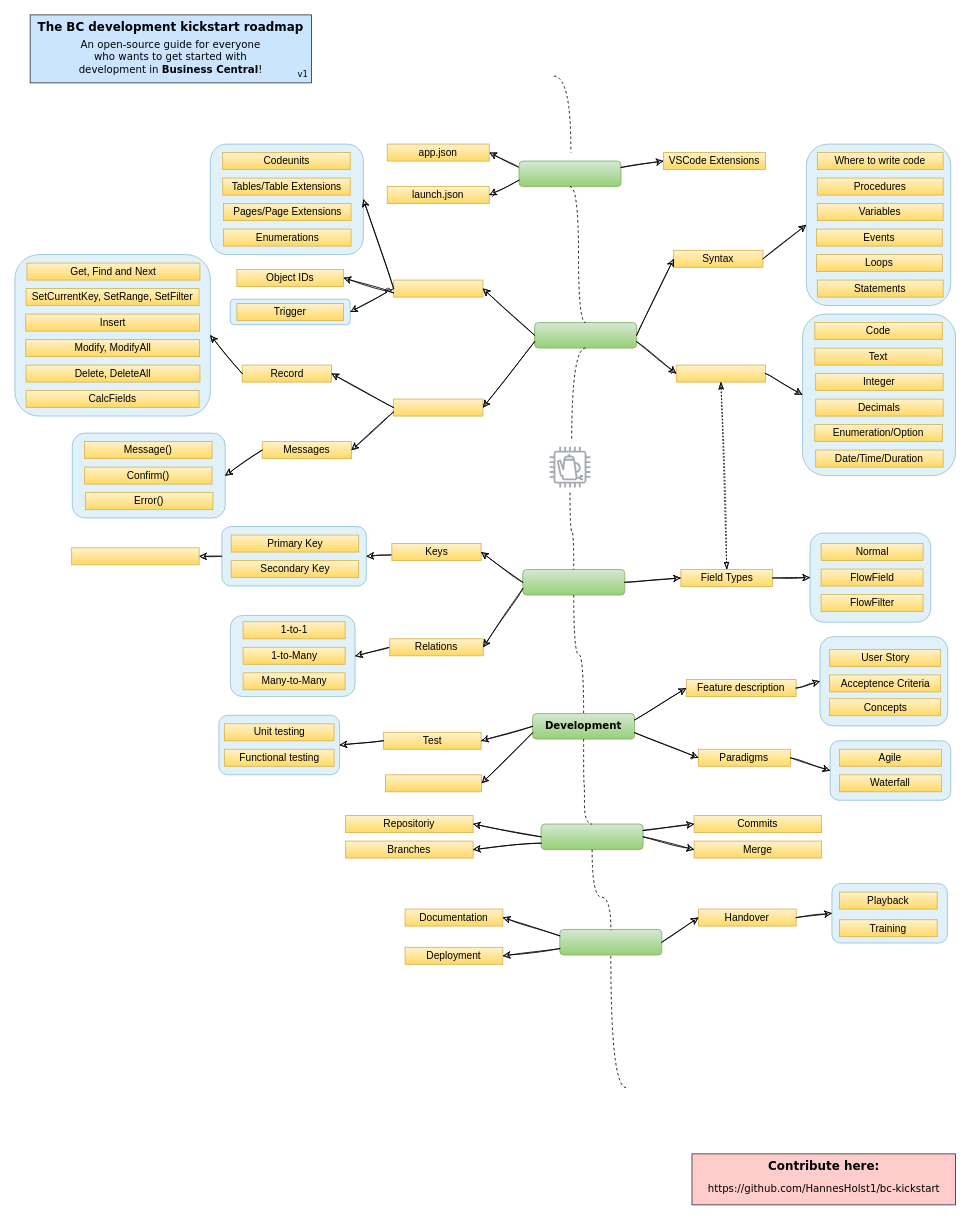
Image size: 971x1220. Some labels were removed from this diagram. Here are the shapes that lost their labels. From the top down, the centre of each, then its label:
point (569, 173): VSCode
point (438, 288): Objects
point (585, 335): AL
point (720, 373): DataTypes
point (438, 407): Methods
point (135, 556): AutoIncrement
point (573, 582): Database theory
point (433, 783): Debugging
point (591, 836): Version Control
point (610, 942): Release
